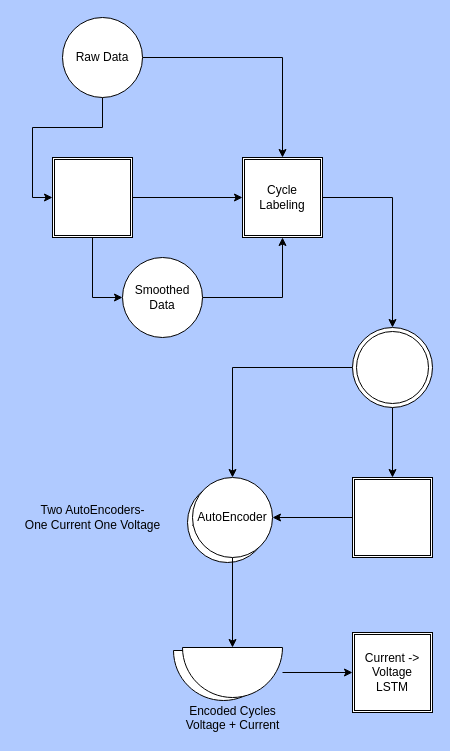
The diagram is 450 pixels wide and 751 high, and some of its shapes have lost their labels. Each missing label, with the centre of its shape:
"AutoEncoders Training" goes at (392,517).
"Cycle Labeled Raw Data" goes at (392,367).
"Smoothing" goes at (92,197).
